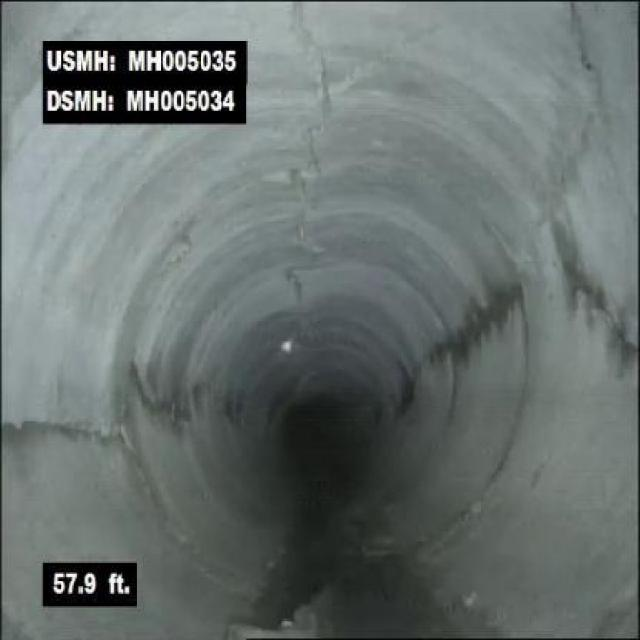Crack: (552, 235, 638, 371), (569, 8, 628, 138), (288, 3, 338, 117), (350, 28, 452, 82), (11, 414, 123, 444)
Debris: (225, 583, 340, 639)
